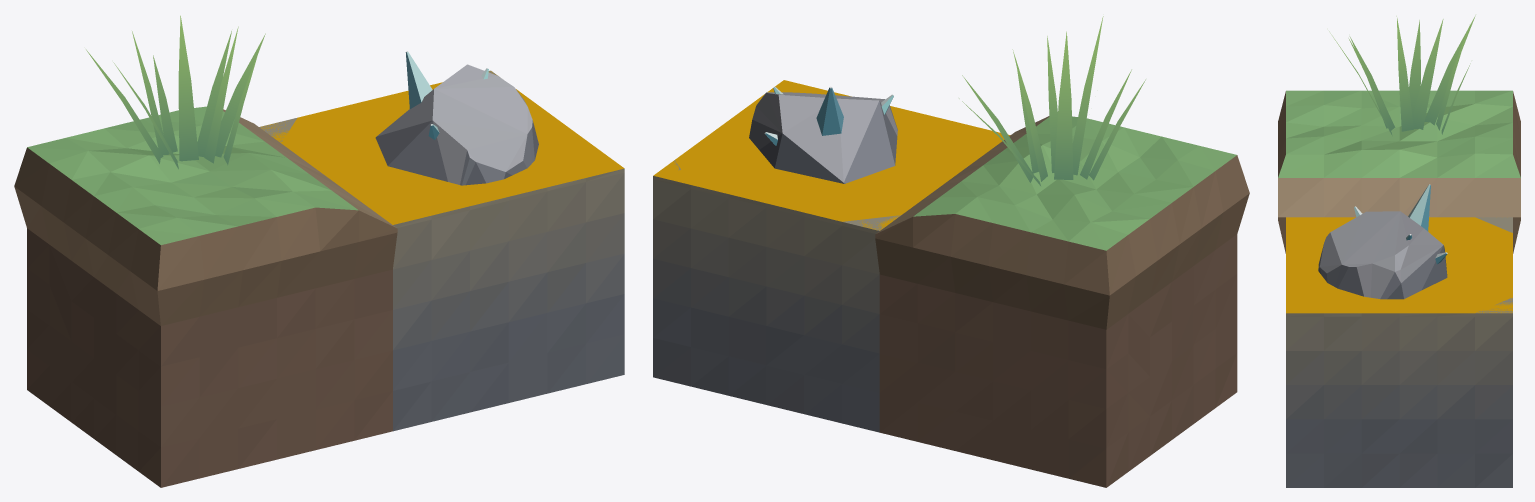
File: cenario_validacao.glb
3 views of the same model, side by side, from view 1: azimuth 30°, elevation 25°; view 2: azimuth 150°, elevation 25°; view 3: azimuth 270°, elevation 25° (orthographic). The views are drawn at different scales.
Visible parts, largest first — view 1: Soil_Block, Riverbed, Water_Surface, Rock_Submerged, Grass_Tuft, Ore_Crystals; view 2: Soil_Block, Riverbed, Water_Surface, Rock_Submerged, Grass_Tuft, Ore_Crystals; view 3: Riverbed, Soil_Block, Water_Surface, Rock_Submerged, Grass_Tuft, Ore_Crystals.
Boxes of the visible parts, <box> form: Soil_Block: <box>14,106,397,487</box>; Riverbed: <box>259,70,624,431</box>; Water_Surface: <box>261,71,624,224</box>; Rock_Submerged: <box>375,64,538,185</box>; Grass_Tuft: <box>86,15,265,169</box>; Ore_Crystals: <box>405,51,488,139</box>; Soil_Block: <box>875,116,1249,487</box>; Riverbed: <box>653,160,901,432</box>; Water_Surface: <box>653,80,1010,230</box>; Rock_Submerged: <box>749,92,897,183</box>; Grass_Tuft: <box>959,16,1145,185</box>; Ore_Crystals: <box>764,86,893,145</box>; Riverbed: <box>1286,217,1512,487</box>; Soil_Block: <box>1278,90,1520,253</box>; Water_Surface: <box>1286,217,1512,313</box>; Rock_Submerged: <box>1318,211,1447,299</box>; Grass_Tuft: <box>1329,15,1475,135</box>; Ore_Crystals: <box>1354,184,1447,264</box>.
Bounding box in the file's own units: 2.03 × 1.55 × 1.07.
